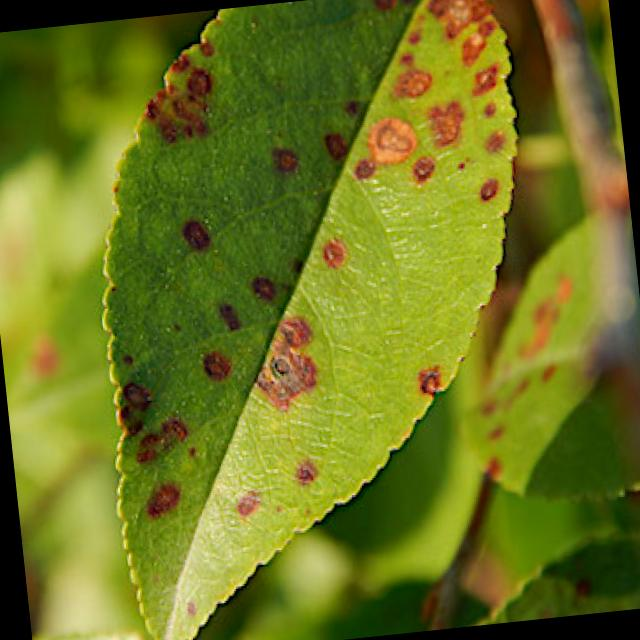leaf_spot: (105, 0, 517, 640)
